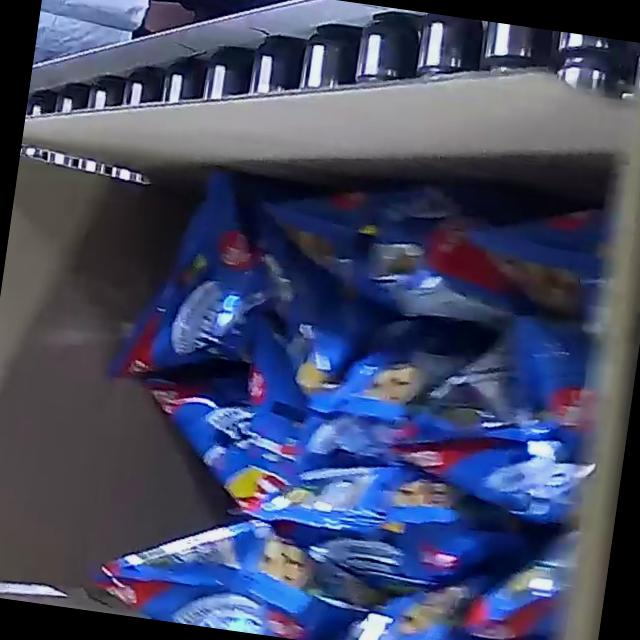paprika: (73, 135, 632, 640)
